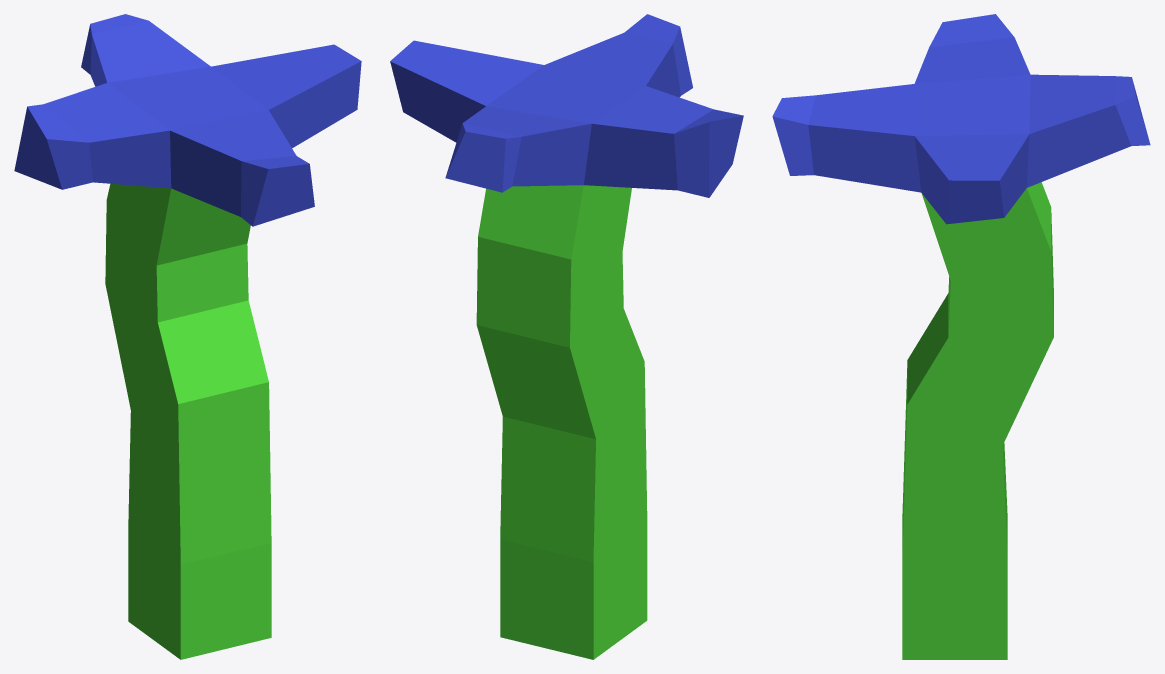
Rendered from flower_blue_1.glb.
3 views of the same model, side by side, from view 1: azimuth 30°, elevation 25°; view 2: azimuth 150°, elevation 25°; view 3: azimuth 270°, elevation 25° (orthographic). The views are drawn at different scales.
Visible parts, largest first — view 1: Cube; view 2: Cube; view 3: Cube.
Part boxes in pixels (x1,y1,x2,y2): Cube: [14, 14, 361, 659]; Cube: [390, 14, 743, 659]; Cube: [772, 14, 1150, 659].
Bounding box in the file's own units: 0.3503 × 0.5753 × 0.3585.
